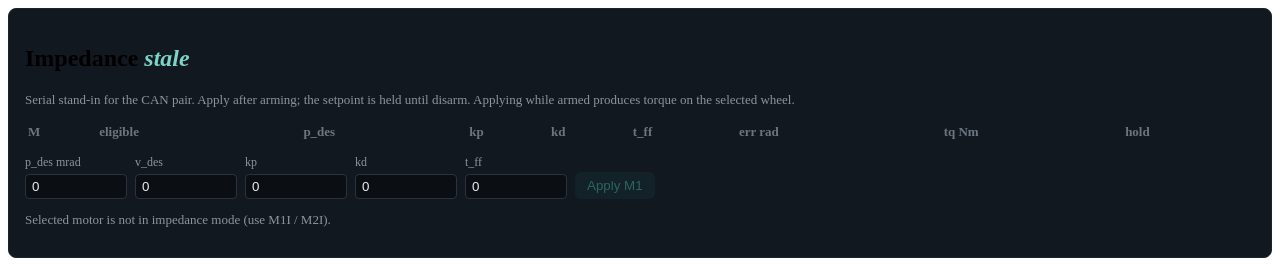
ImpedancePanel › states the five-term ranges before submit
Replace the text in the number field labelled "p_des mrad" with "700000". click: (76, 186)
box: [25, 174, 127, 199]
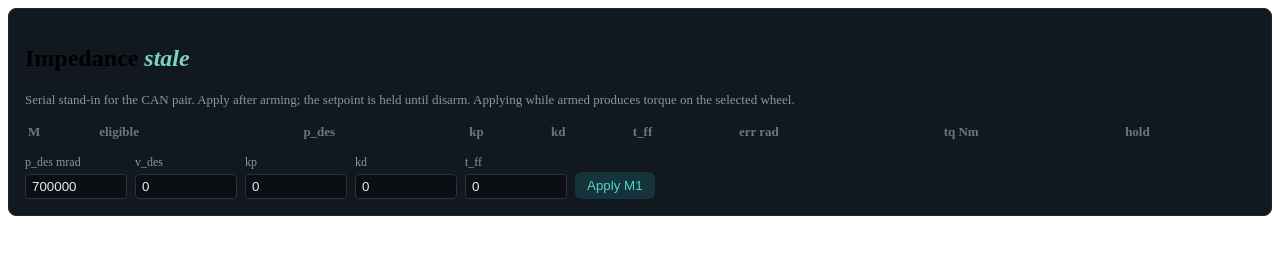
Click the button "Apply M1". click: click(615, 185)
box: [575, 172, 655, 199]
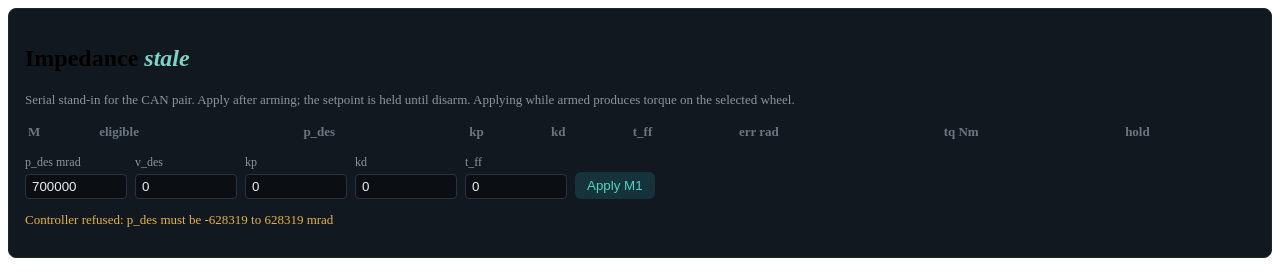
Check: the text "-628319 to 628319" is shown, box [25, 212, 333, 227]
Replace the text in the number field labelled "p_des mrad" with "0". click: (76, 186)
box: [25, 174, 127, 199]
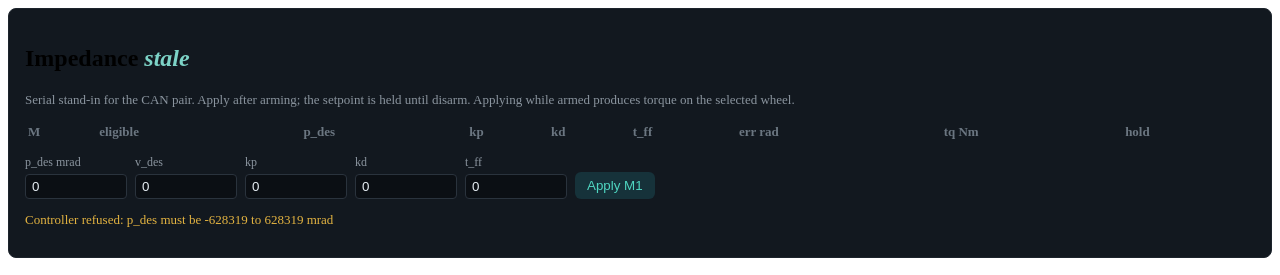
Replace the text in the number field labelled "kp" with "80". click: (296, 186)
box: [245, 174, 347, 199]
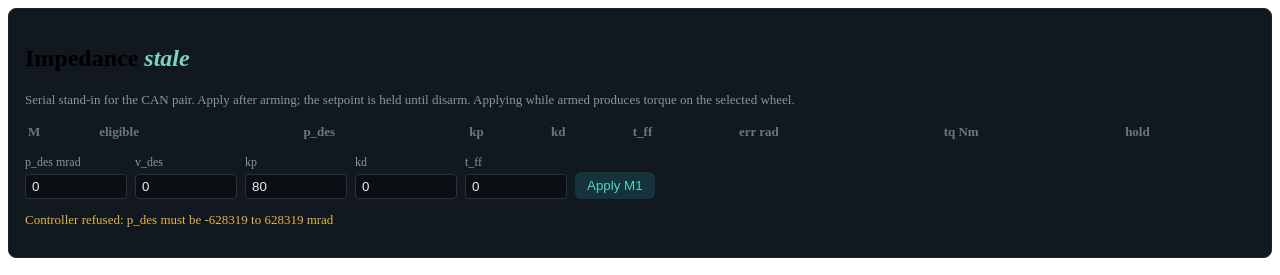
Click the button "Apply M1". click: click(615, 185)
box: [575, 172, 655, 199]
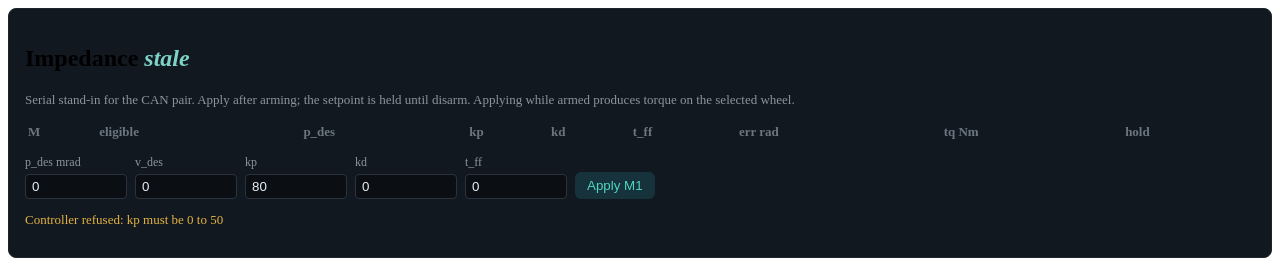
Check: the text "kp must be 0 to 50" is shown, box [25, 212, 223, 227]
